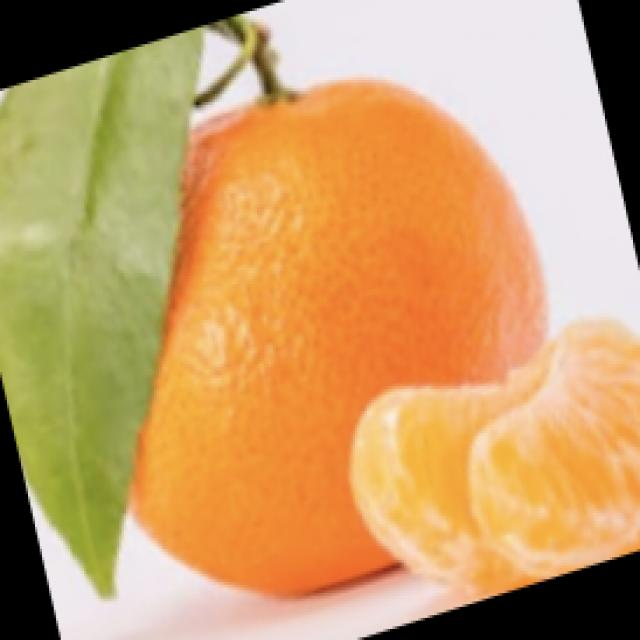fresh: (0, 0, 596, 605)
